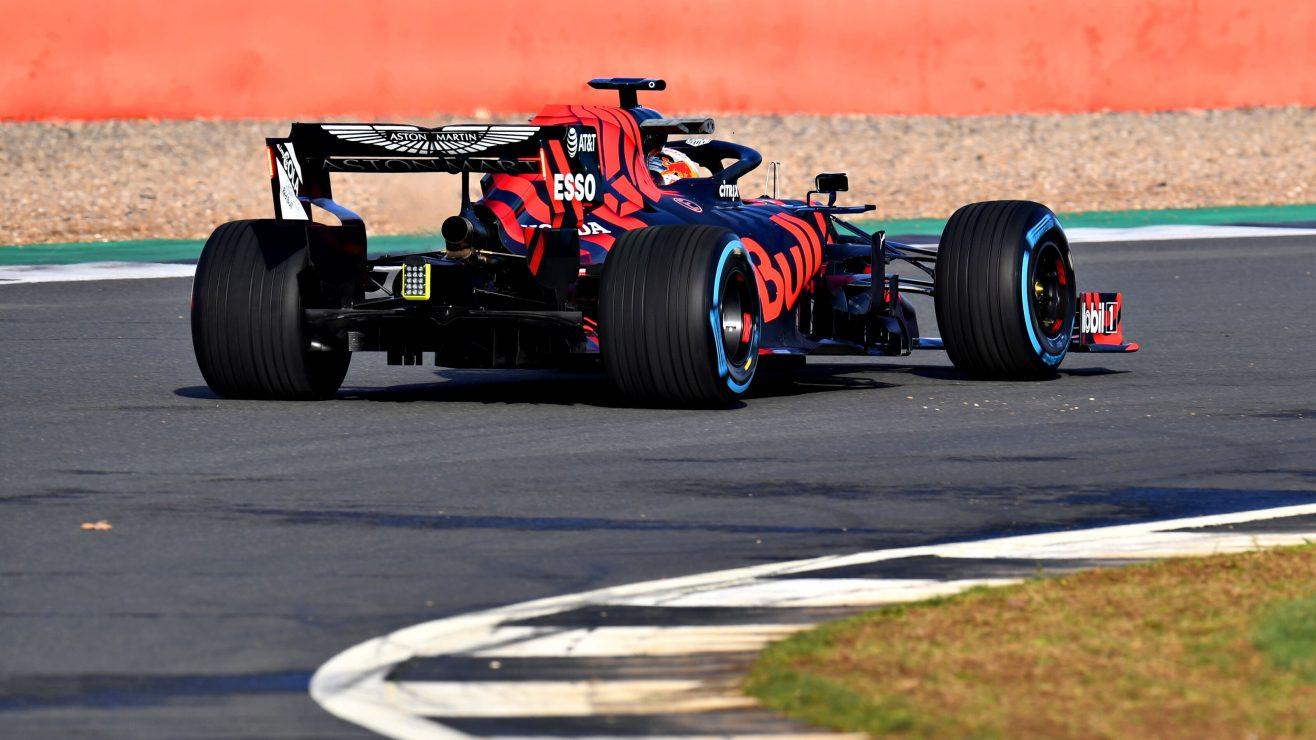f1_car: (169, 68, 1150, 421)
